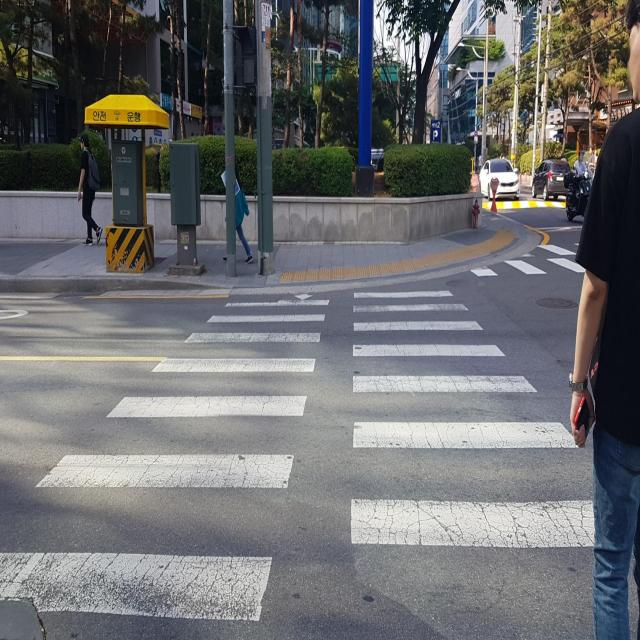횡단보도: (0, 287, 597, 624), (468, 240, 586, 280)
